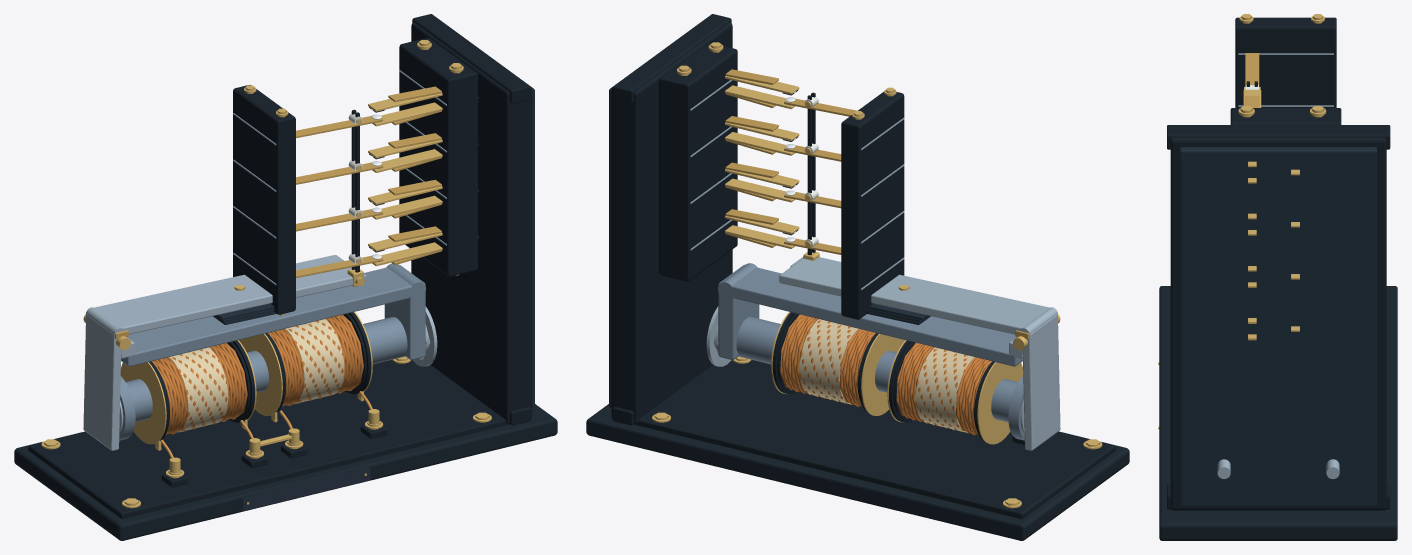
File: JSBXC-850-dropped.glb
3 renders of one model, left to right at view 1: azimuth 30°, elevation 25°; view 2: azimuth 150°, elevation 25°; view 3: azimuth 270°, elevation 25°, orthographic. The views are drawn at different scales.
Parts seen in each view (by area): view 1: base (×6), contactBlock (×2), coil (×6), armature (×2), yoke (×2), core, back (×3), pole; view 2: base (×5), contactBlock (×2), coil (×6), armature (×2), yoke (×2), core, back (×2), pole; view 3: base (×4), contactBlock (×2), common.
Part boxes in pixels (box(x1,y1,x2,y2)): base (×6): box(14, 14, 557, 540); contactBlock (×2): box(233, 38, 477, 314); coil (×6): box(120, 314, 363, 444); armature (×2): box(83, 255, 364, 450); yoke (×2): box(121, 264, 425, 366); core: box(125, 317, 407, 422); back (×3): box(372, 102, 442, 266); pole: box(119, 376, 135, 440); base (×5): box(586, 14, 1129, 540); contactBlock (×2): box(659, 42, 904, 319); coil (×6): box(780, 314, 1023, 444); armature (×2): box(779, 257, 1060, 450); yoke (×2): box(718, 264, 1022, 366); core: box(736, 317, 1018, 422); back (×2): box(725, 132, 795, 248); pole: box(1008, 376, 1024, 440); base (×4): box(1159, 125, 1397, 540); contactBlock (×2): box(1230, 17, 1341, 124); common: box(1245, 53, 1259, 86).
Size of the model in its own units: 6.05 by 4.73 by 2.55.
